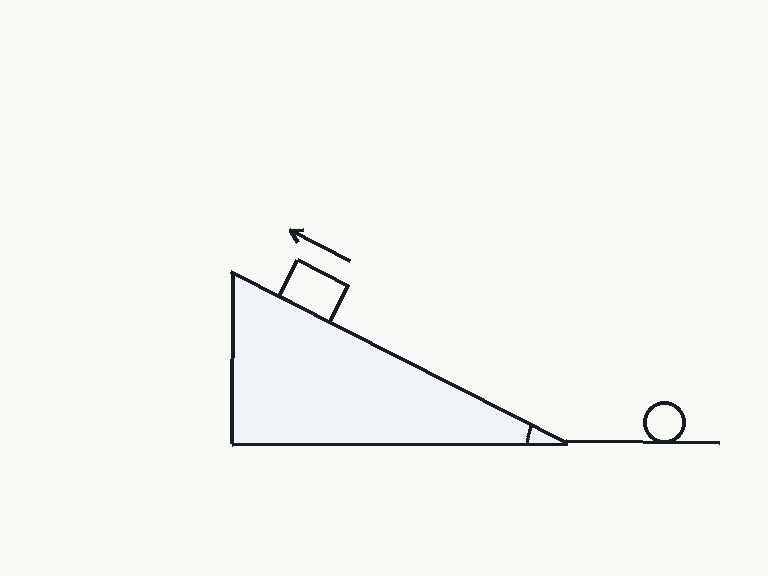ball: (641, 399, 687, 445)
block: (277, 258, 349, 323)
ramp: (230, 270, 569, 445)
